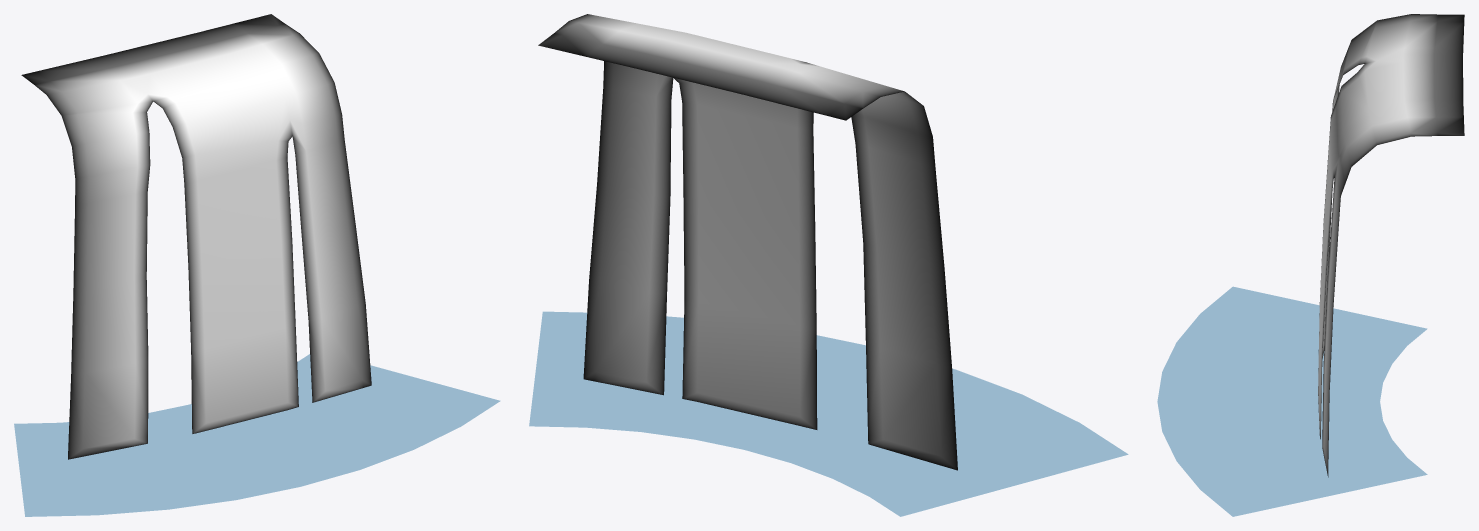
File: SM_WaterfallSplit3.fbx
3 views of the same model, side by side, from view 1: azimuth 30°, elevation 25°; view 2: azimuth 150°, elevation 25°; view 3: azimuth 270°, elevation 25° (orthographic). The views are drawn at different scales.
Parts seen in each view (by area): view 1: SM_WaterfallSplit3; view 2: SM_WaterfallSplit3; view 3: SM_WaterfallSplit3.
Boxes of the visible parts, x1,y1,x2,y2 form: SM_WaterfallSplit3: [14, 14, 500, 516]; SM_WaterfallSplit3: [529, 14, 1128, 516]; SM_WaterfallSplit3: [1157, 14, 1464, 516].
Bounding box in the file's own units: 2736 × 1807 × 1541.
